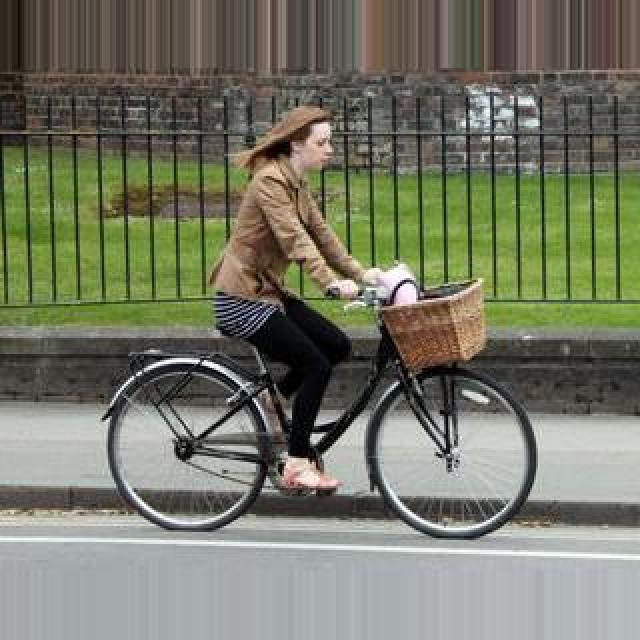MC-Bike: (208, 104, 414, 496)
Person: (101, 269, 529, 537)
